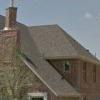Chimney: (3, 3, 18, 36)
